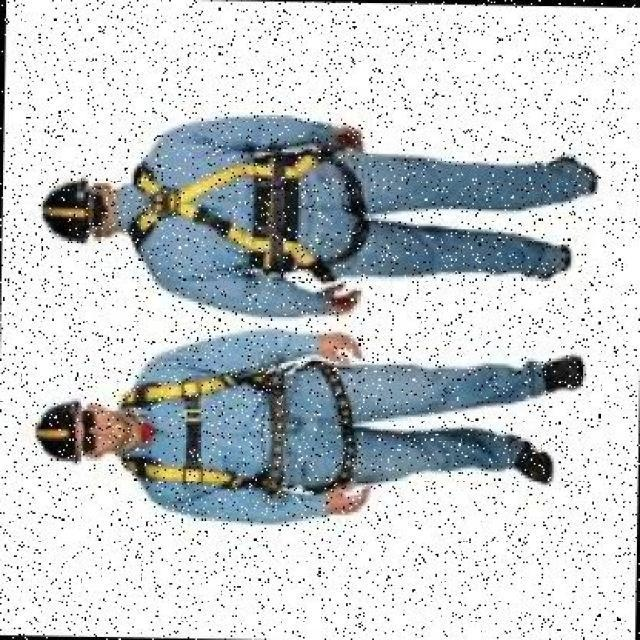Arnes_seguridad: (112, 351, 365, 497), (119, 141, 376, 284)
